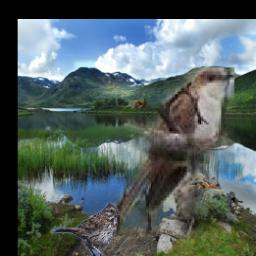Cuckoo: (95, 68, 234, 240)
Sparrow: (52, 202, 122, 256)
